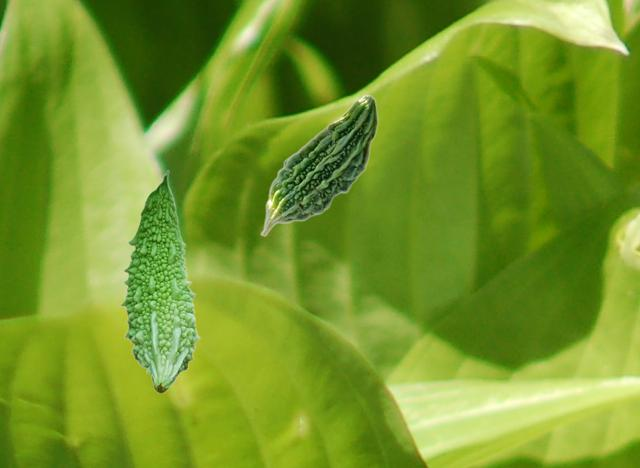ampalaya: (119, 169, 200, 394), (259, 92, 379, 237)
